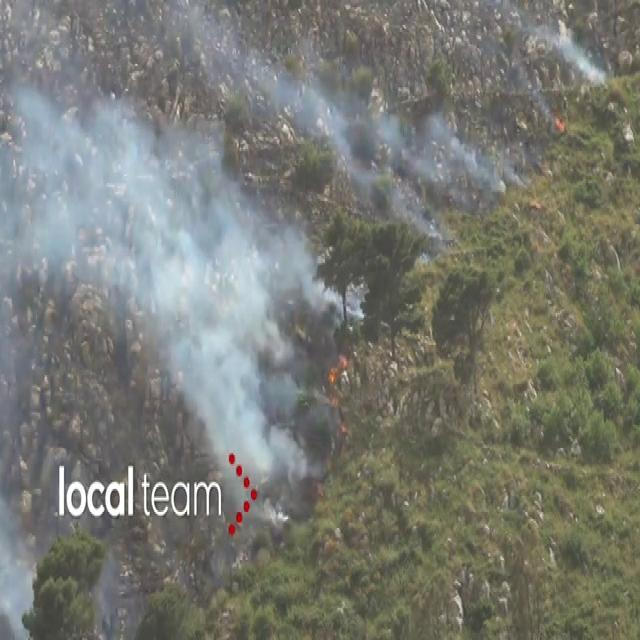Fire: (552, 110, 566, 132)
Smoke: (4, 82, 350, 628), (190, 12, 524, 218), (519, 16, 614, 116)
